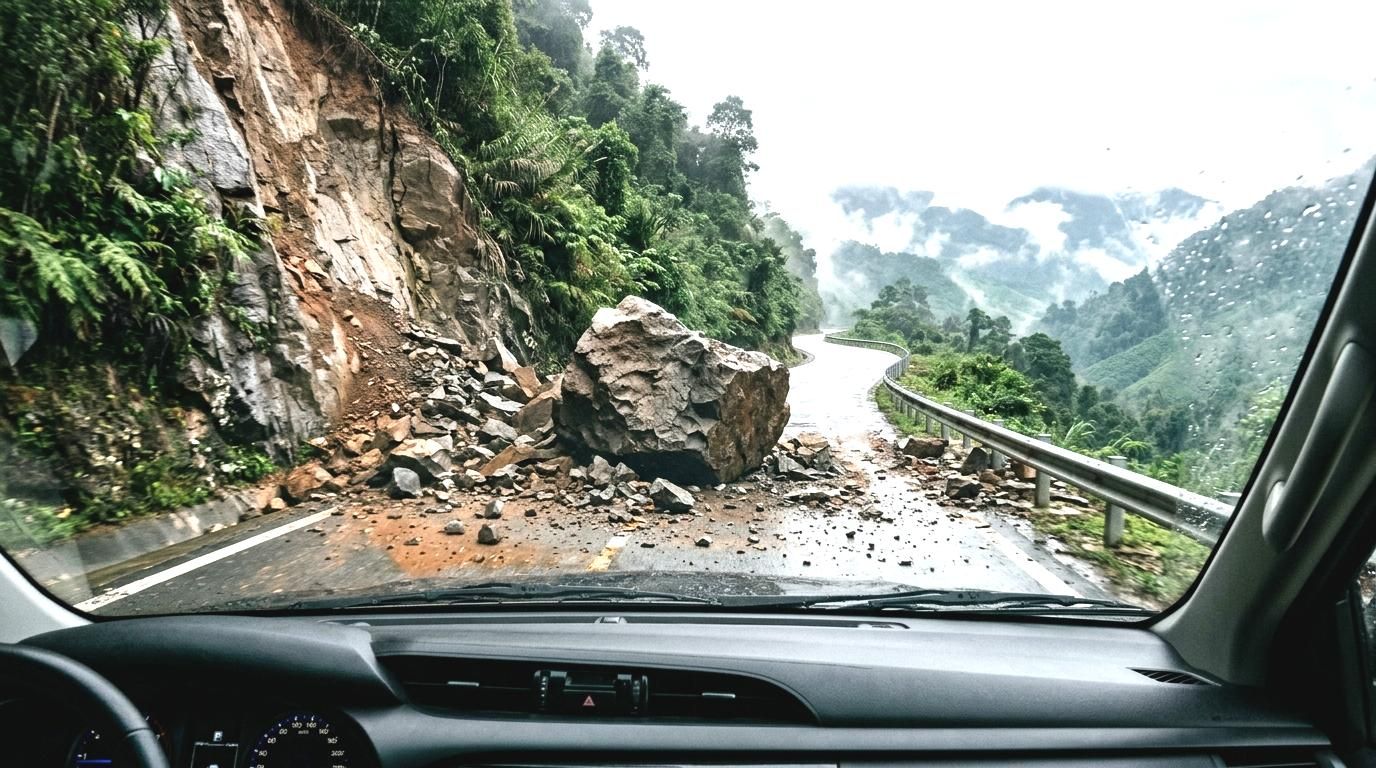ROAD_OBSTACLE: (495, 399, 1018, 645)
